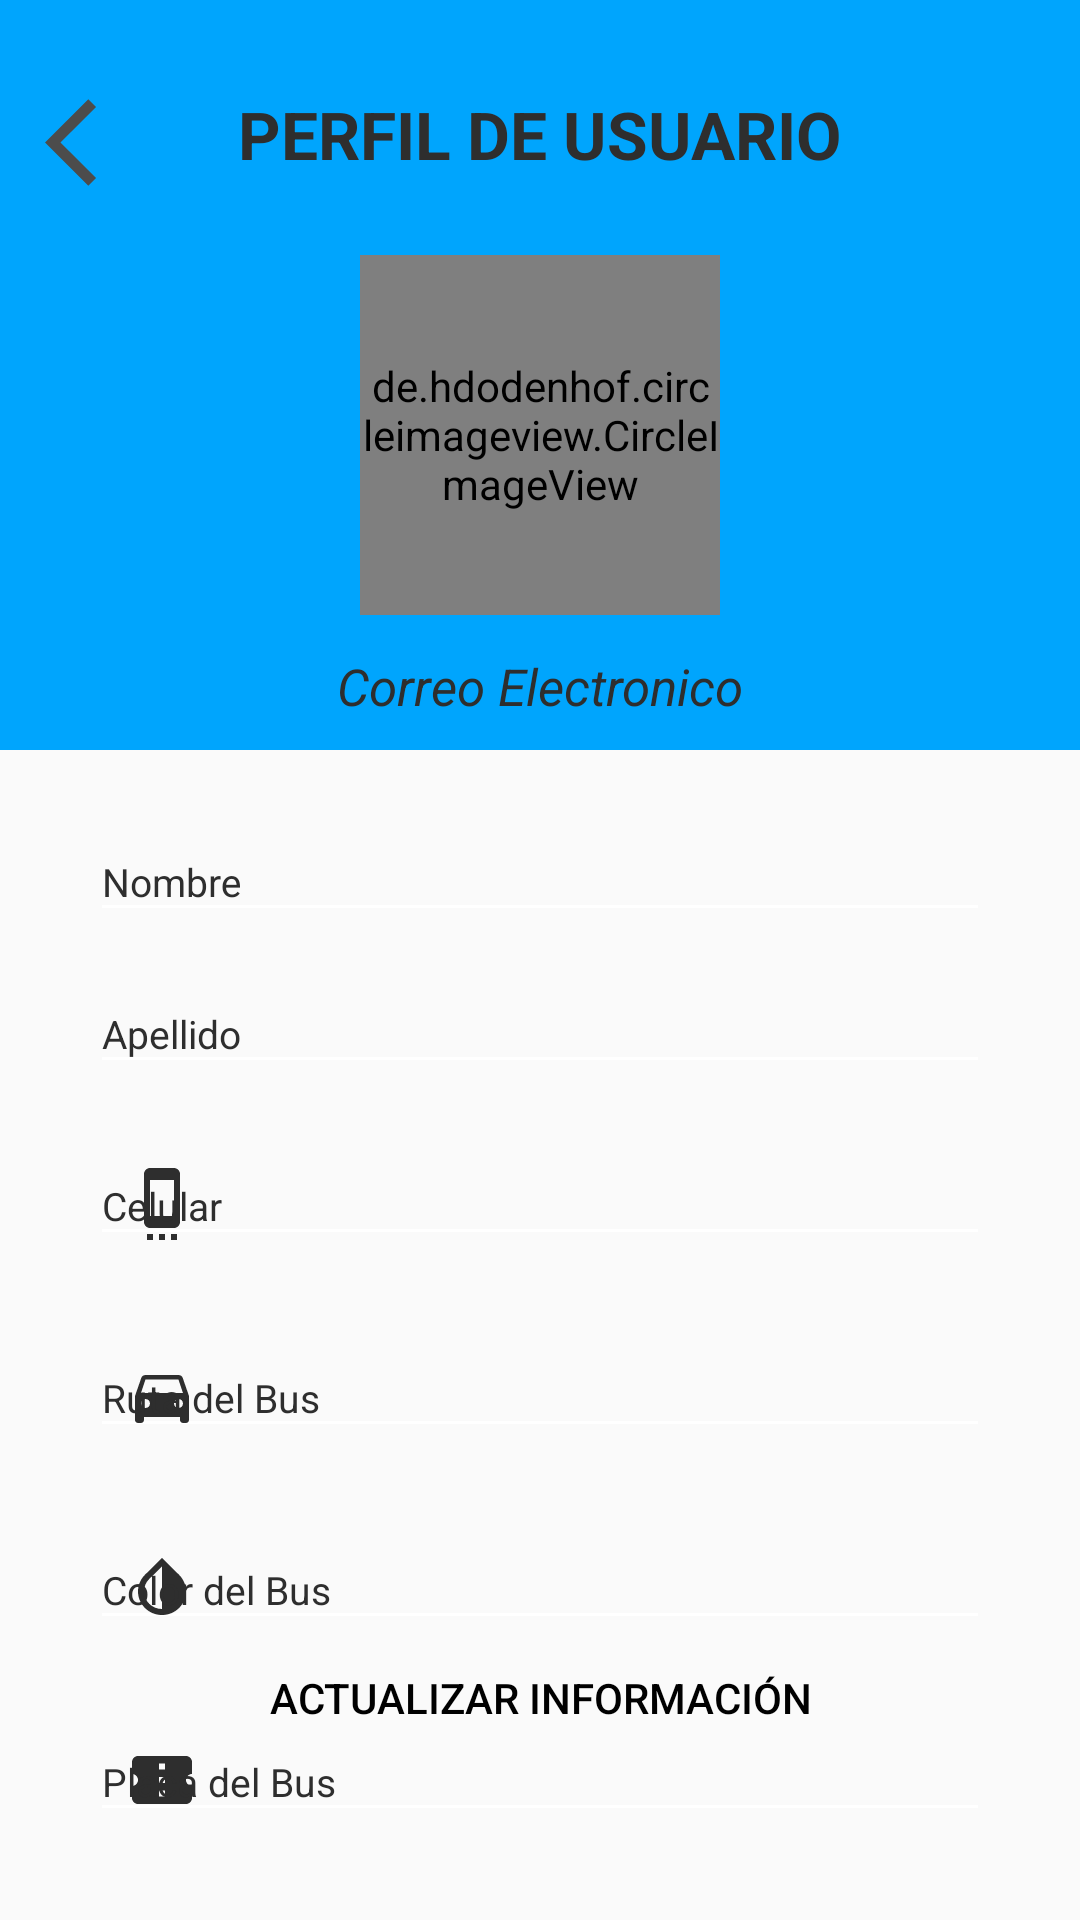

Where to tap for icons on this 1080px x 1920px app screen, as (x,y):
back: (70,142)
